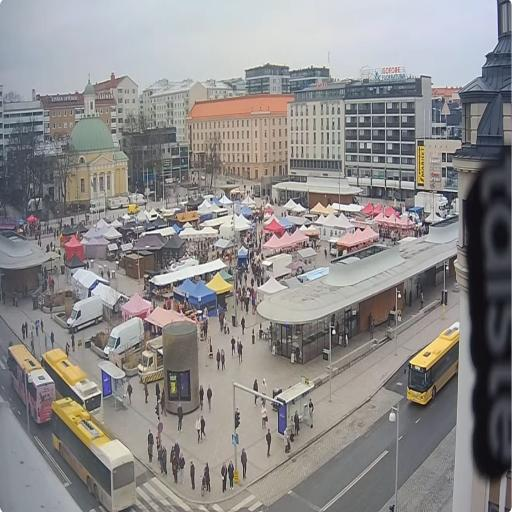Bus: (51, 398, 136, 511), (41, 348, 103, 423), (407, 322, 459, 405), (8, 344, 55, 424)
Delivery: (104, 318, 144, 358), (67, 297, 103, 333), (138, 336, 163, 383)
